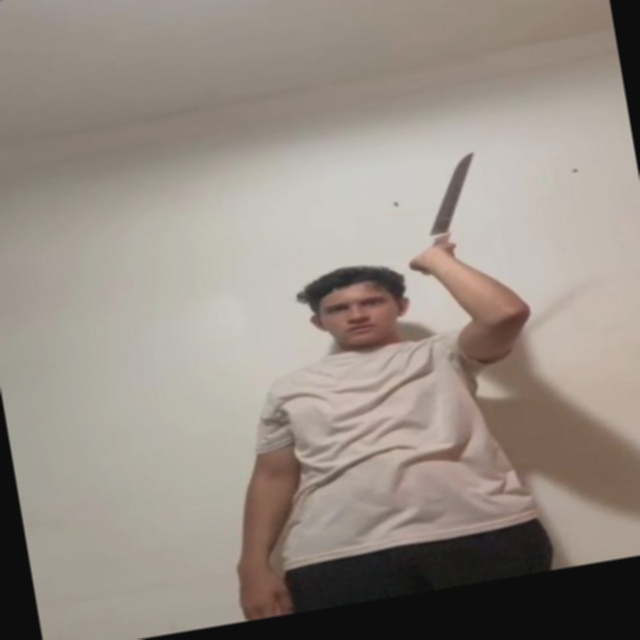Sharp-Object: (416, 149, 489, 237)
